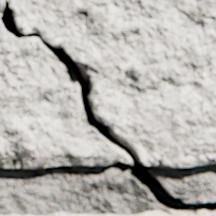brick: (0, 210, 215, 215)
broken_brick: (0, 0, 215, 168), (0, 20, 131, 167)
crack: (0, 2, 215, 213)
